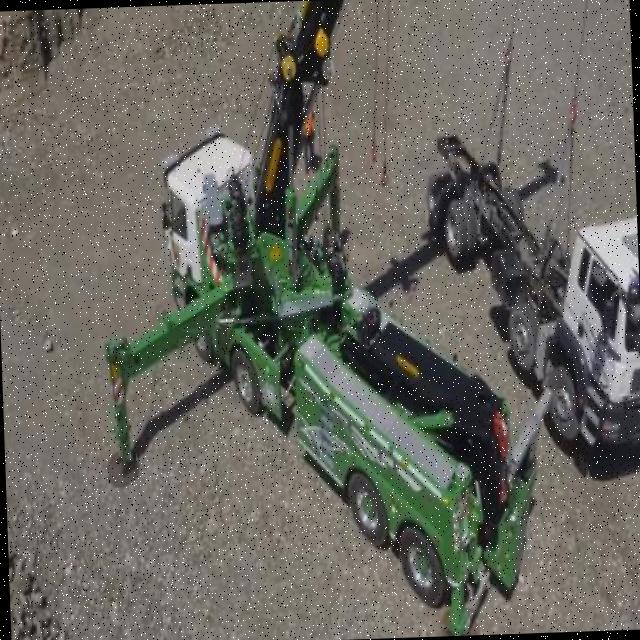Mobile Crane: (90, 0, 557, 640)
